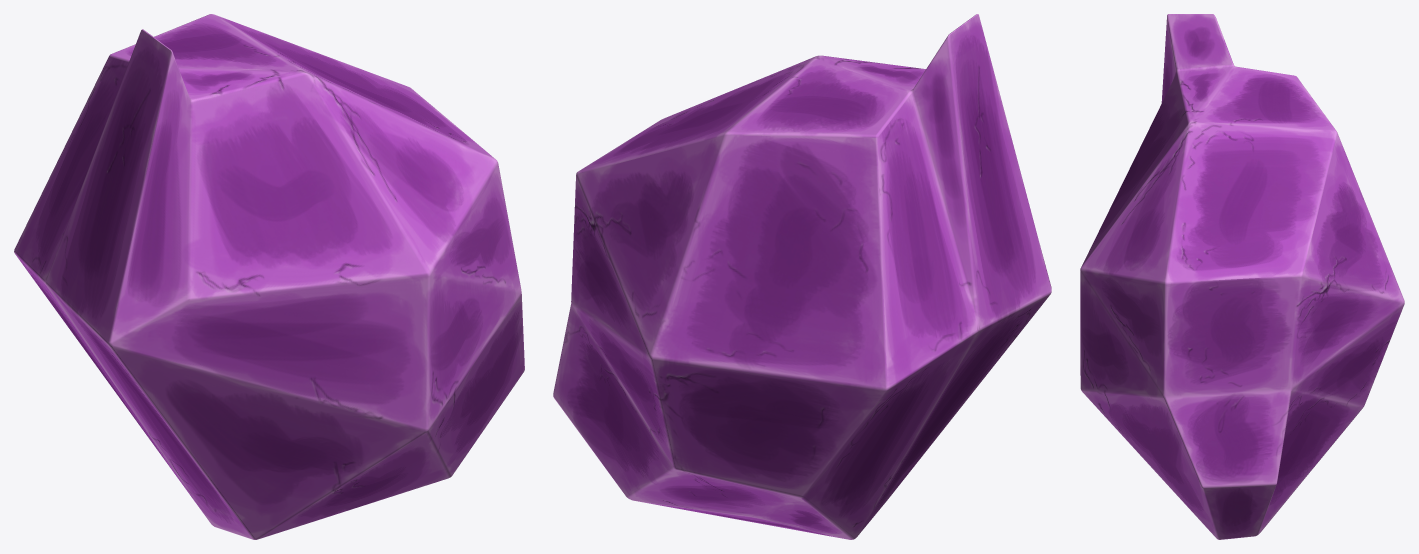
The model's file is for_icons.fbx.
3 views of the same model, side by side, from view 1: azimuth 30°, elevation 25°; view 2: azimuth 150°, elevation 25°; view 3: azimuth 270°, elevation 25° (orthographic). The views are drawn at different scales.
Parts seen in each view (by area): view 1: polySurface1; view 2: polySurface1; view 3: polySurface1.
Boxes of the visible parts, x1,y1,x2,y2 form: polySurface1: (14,14,524,539); polySurface1: (553,14,1051,539); polySurface1: (1080,14,1404,539).
Size of the model in its own units: 139 by 157 by 113.
